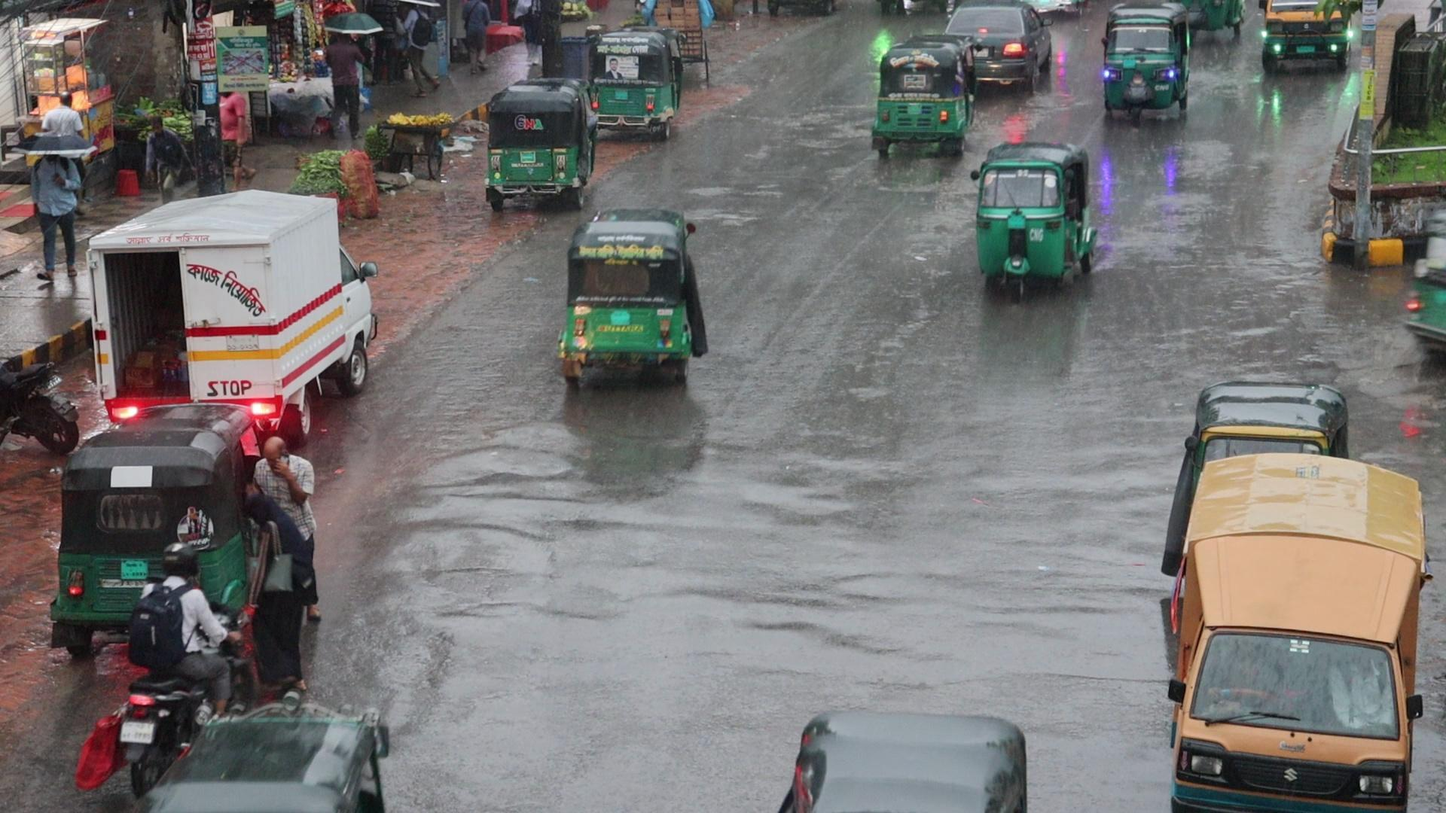Truck: (1159, 452, 1434, 813)
